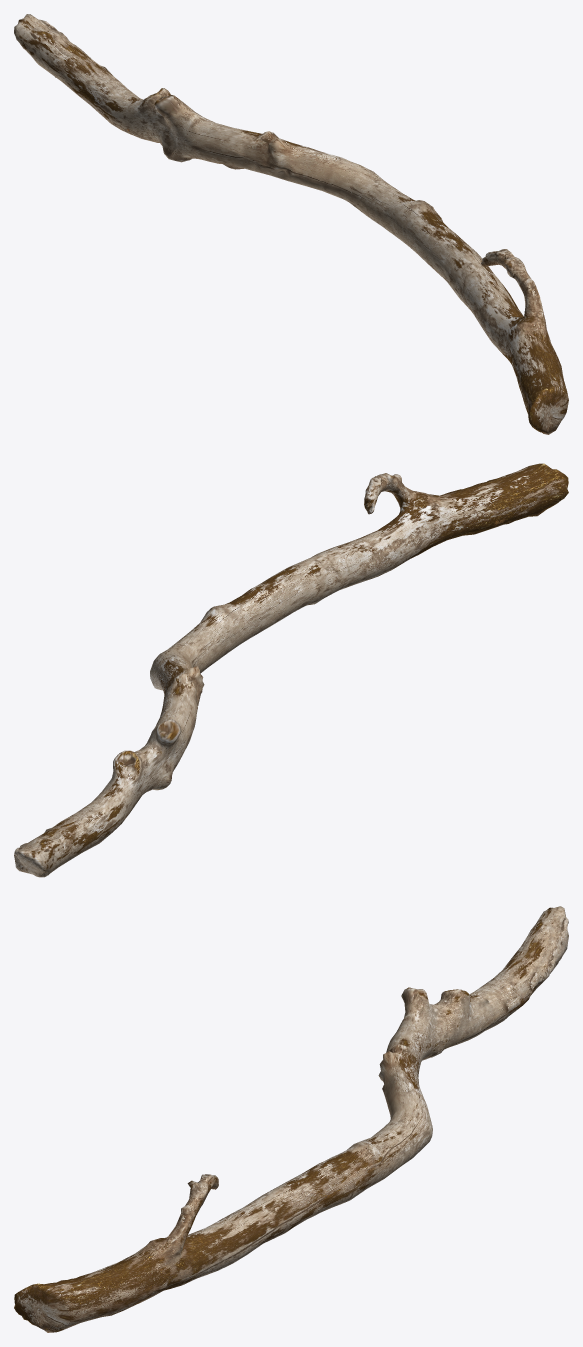
The model's file is SM_TreeFallen_03.fbx.
3 renders of one model, top to bottom at view 1: azimuth 30°, elevation 25°; view 2: azimuth 150°, elevation 25°; view 3: azimuth 330°, elevation 25°, orthographic.
Visible parts, largest first — view 1: SM_TreeFallen_03; view 2: SM_TreeFallen_03; view 3: SM_TreeFallen_03.
Boxes of the visible parts, bbox=[...] form: SM_TreeFallen_03: bbox=[14, 14, 568, 434]; SM_TreeFallen_03: bbox=[14, 463, 568, 877]; SM_TreeFallen_03: bbox=[14, 906, 568, 1332].
Bounding box in the file's own units: 180 × 1212 × 136.
Materials: 1 (1 with a texture image).
